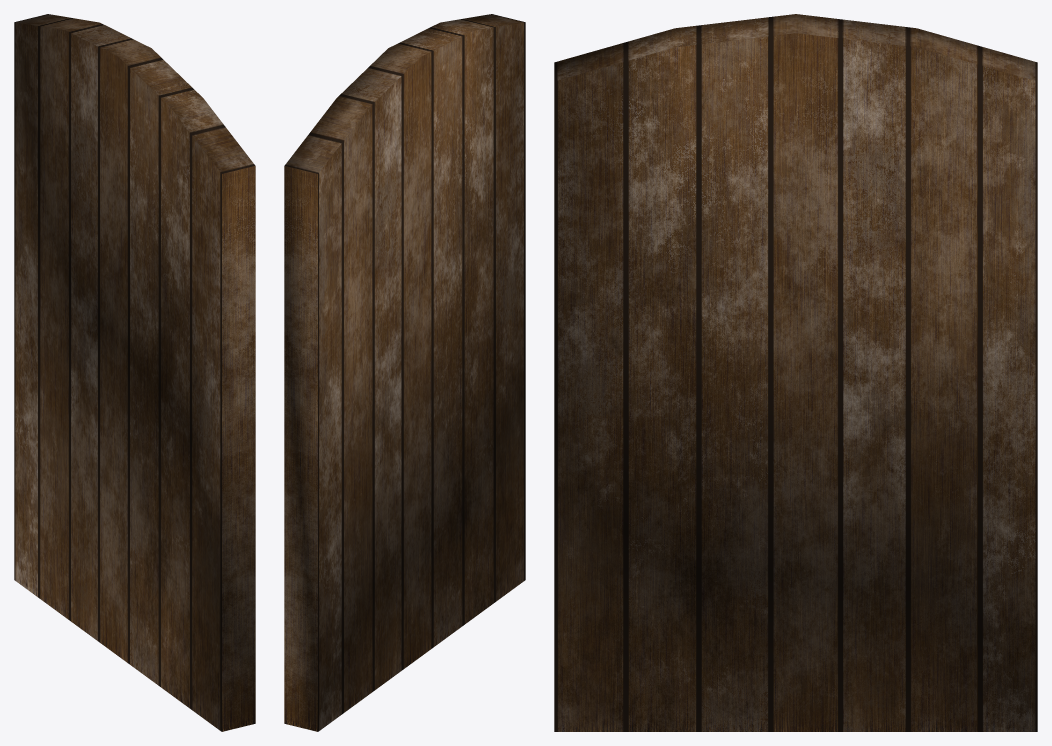
The model's file is door.fbx.
3 views of the same model, side by side, from view 1: azimuth 30°, elevation 25°; view 2: azimuth 150°, elevation 25°; view 3: azimuth 270°, elevation 25° (orthographic). The views are drawn at different scales.
Parts seen in each view (by area): view 1: Cube_001; view 2: Cube_001; view 3: Cube_001.
Boxes of the visible parts, bbox=[...] form: Cube_001: bbox=[14, 14, 255, 731]; Cube_001: bbox=[284, 14, 525, 731]; Cube_001: bbox=[554, 14, 1037, 731].
Size of the model in its own units: 0.12 by 2.04 by 1.28.
